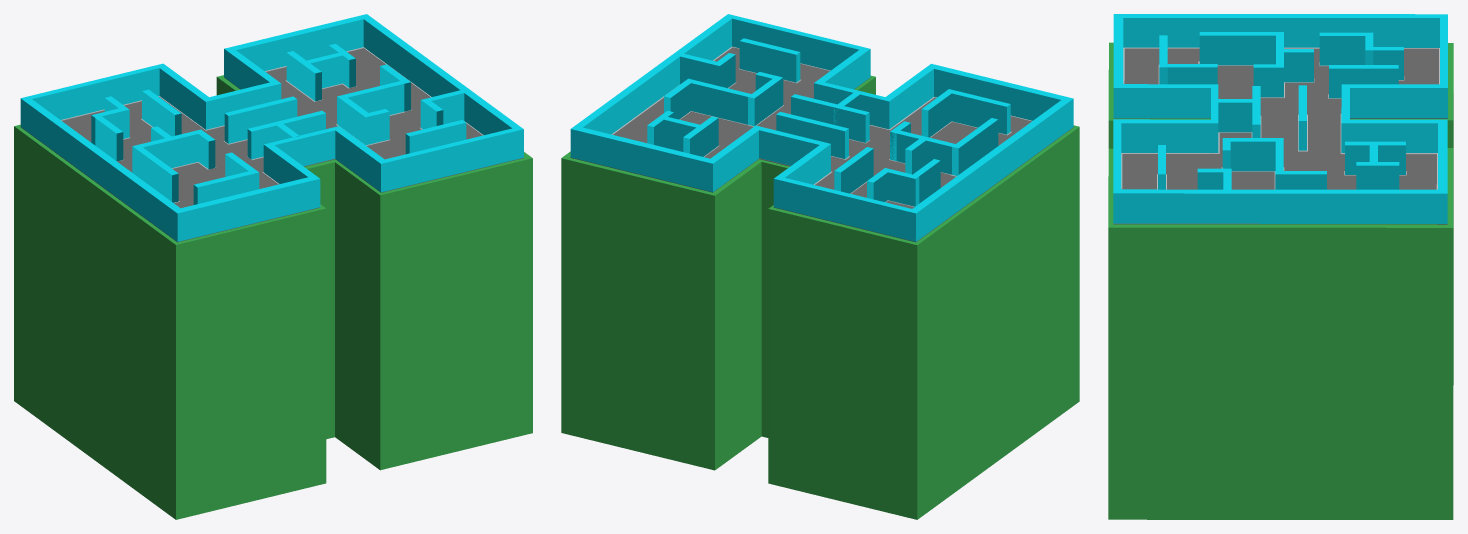
File: Level_25.FBX
3 views of the same model, side by side, from view 1: azimuth 30°, elevation 25°; view 2: azimuth 150°, elevation 25°; view 3: azimuth 270°, elevation 25° (orthographic). The views are drawn at different scales.
Parts seen in each view (by area): view 1: Level_25; view 2: Level_25; view 3: Level_25.
Boxes of the visible parts, box(x1,y1,x2,y2) form: Level_25: box(14, 14, 532, 519); Level_25: box(561, 14, 1079, 519); Level_25: box(1108, 14, 1453, 519).
Size of the model in its own units: 177 by 144 by 139.
